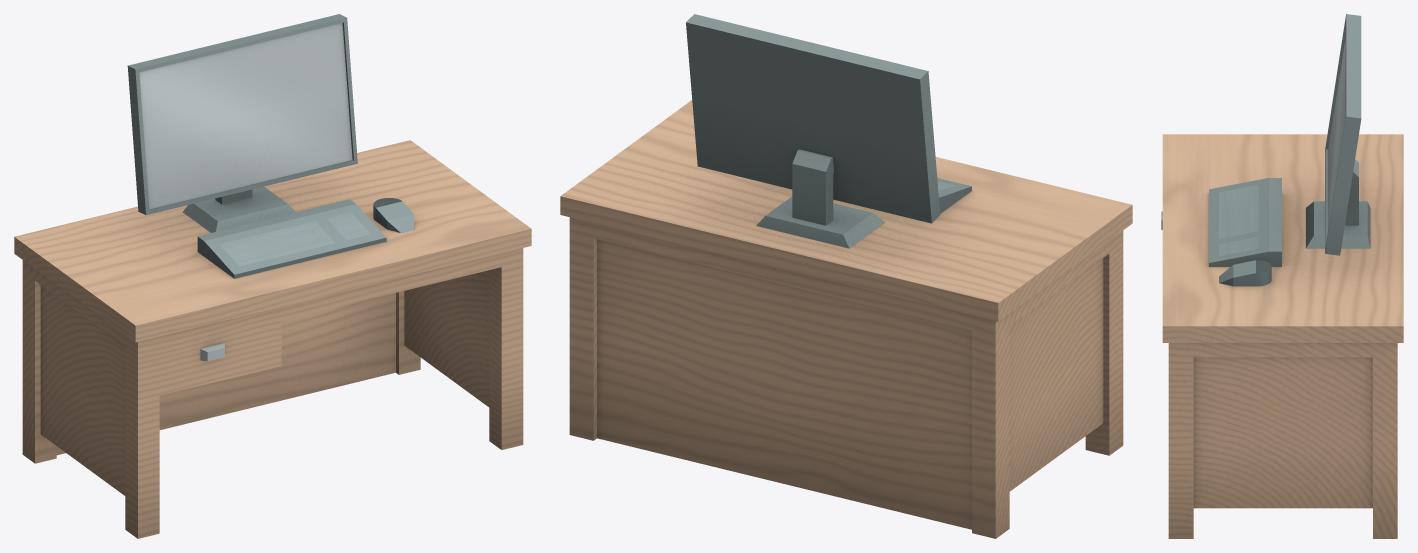
File: computer.glb
3 views of the same model, side by side, from view 1: azimuth 30°, elevation 25°; view 2: azimuth 150°, elevation 25°; view 3: azimuth 270°, elevation 25° (orthographic). The views are drawn at different scales.
Parts seen in each view (by area): view 1: computer; view 2: computer; view 3: computer.
Part boxes in pixels (x1,y1,x2,y2): computer: (14,14,531,538); computer: (560,14,1132,538); computer: (1161,14,1403,538).
Bounding box in the file's own units: 1.47 × 1.36 × 0.7846.
Materials: 4 (4 with a texture image).
